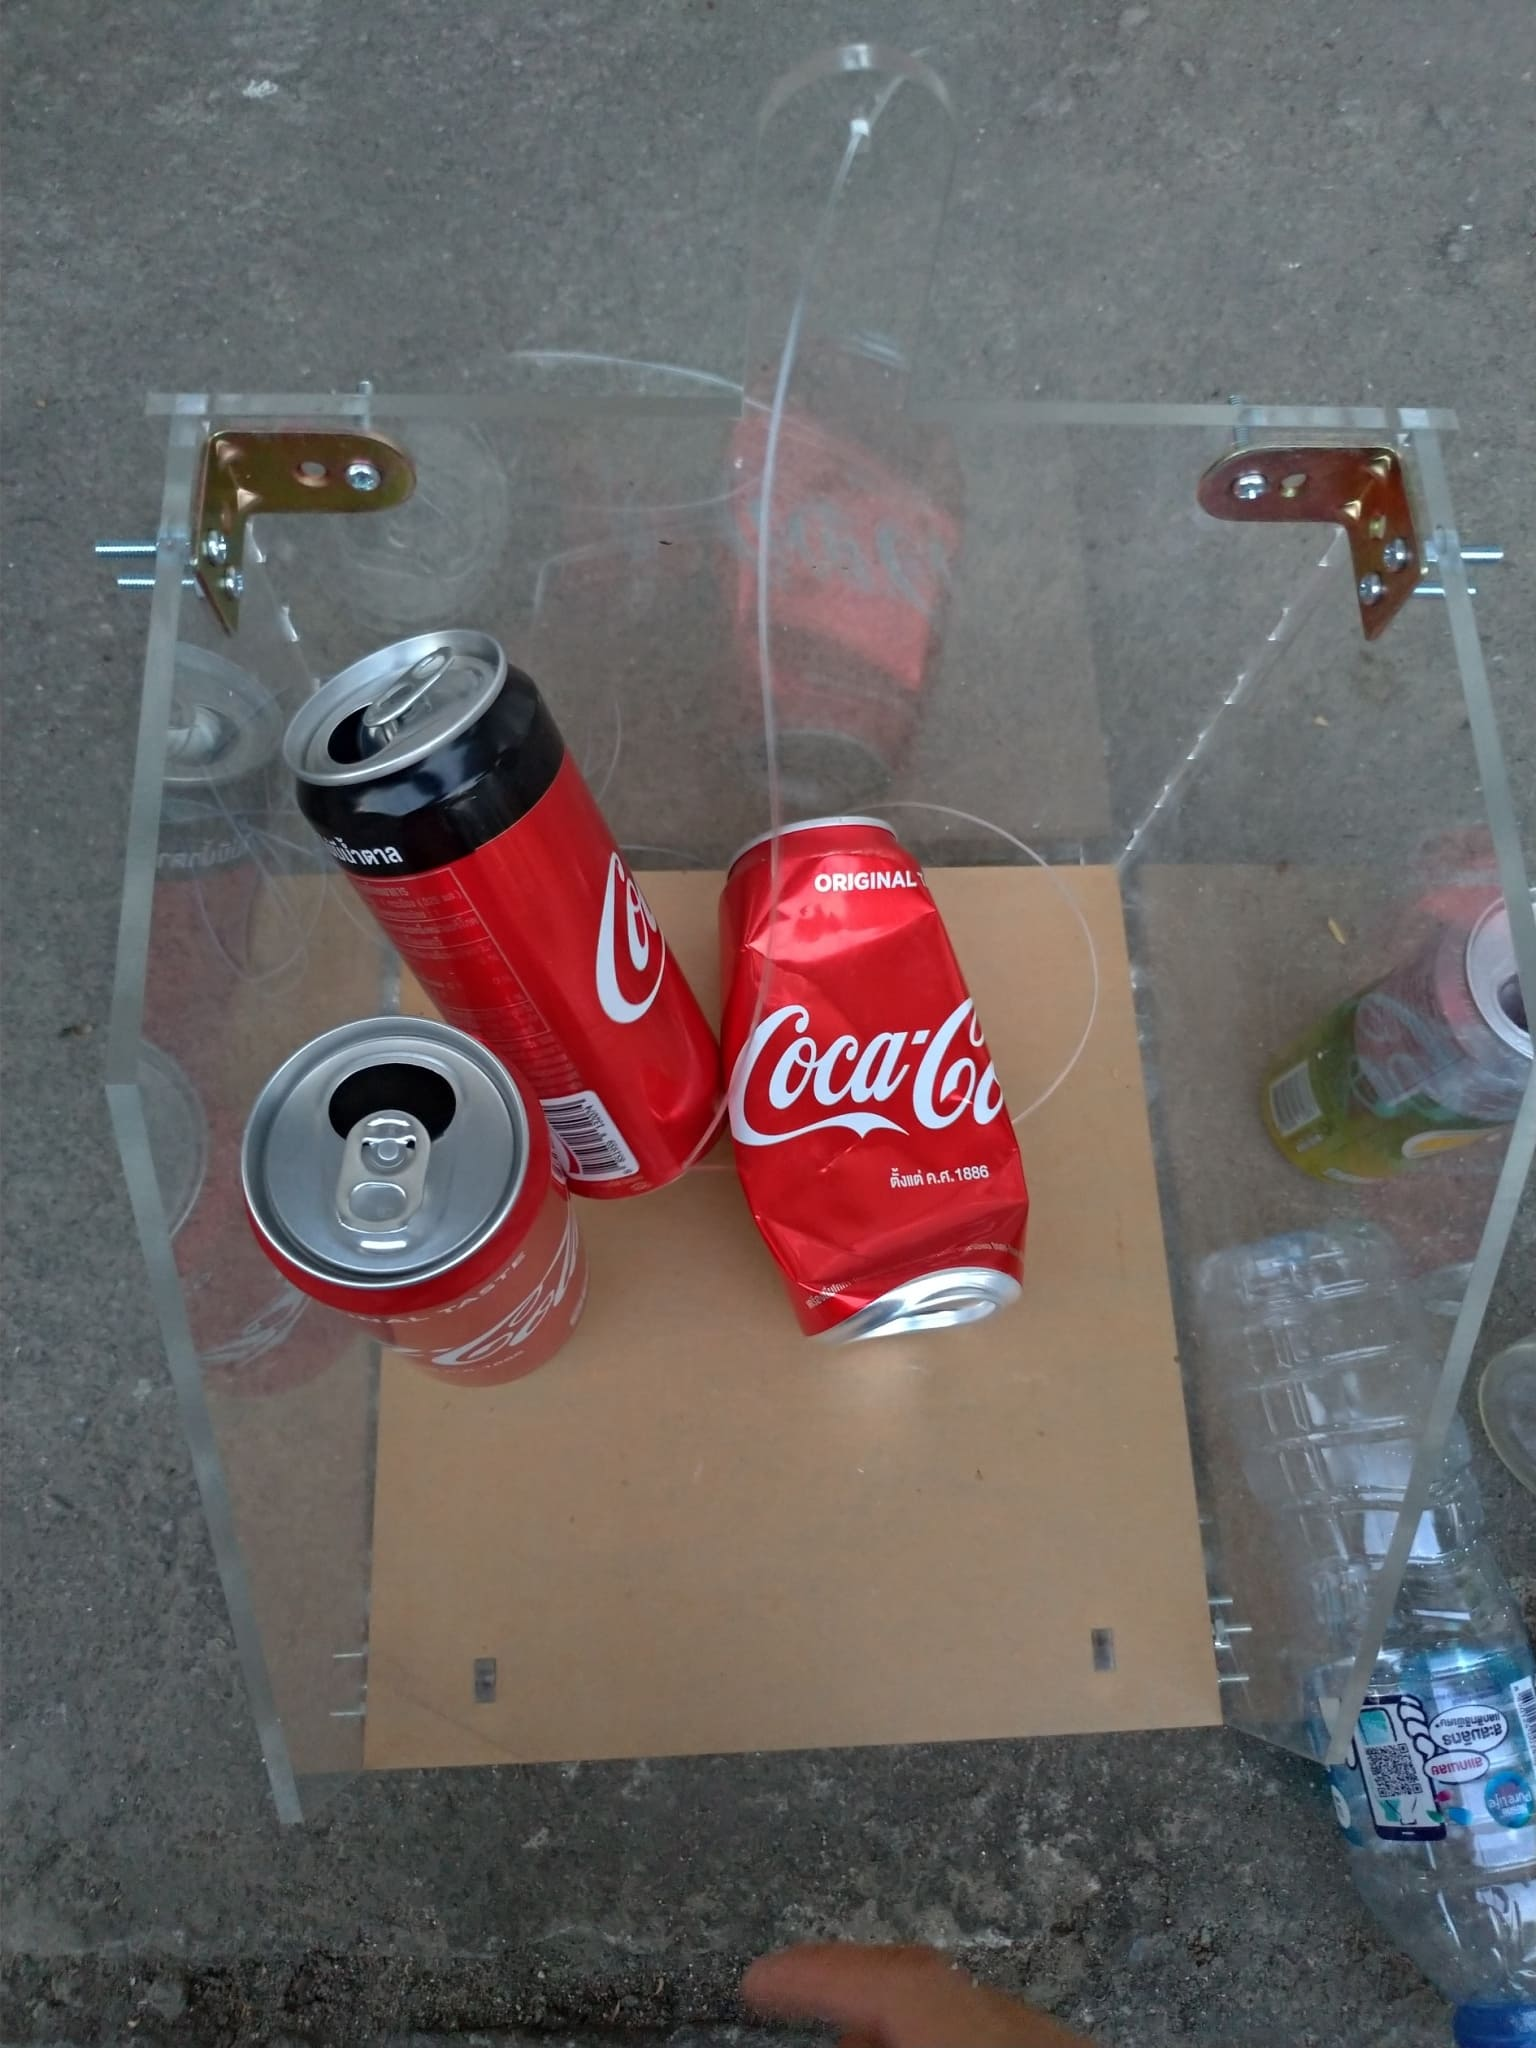AlCan: (286, 629, 728, 1206), (715, 819, 1025, 1351), (237, 1013, 595, 1387), (1258, 887, 1530, 1184)
PlasticBottle: (1196, 1216, 1536, 2033)
